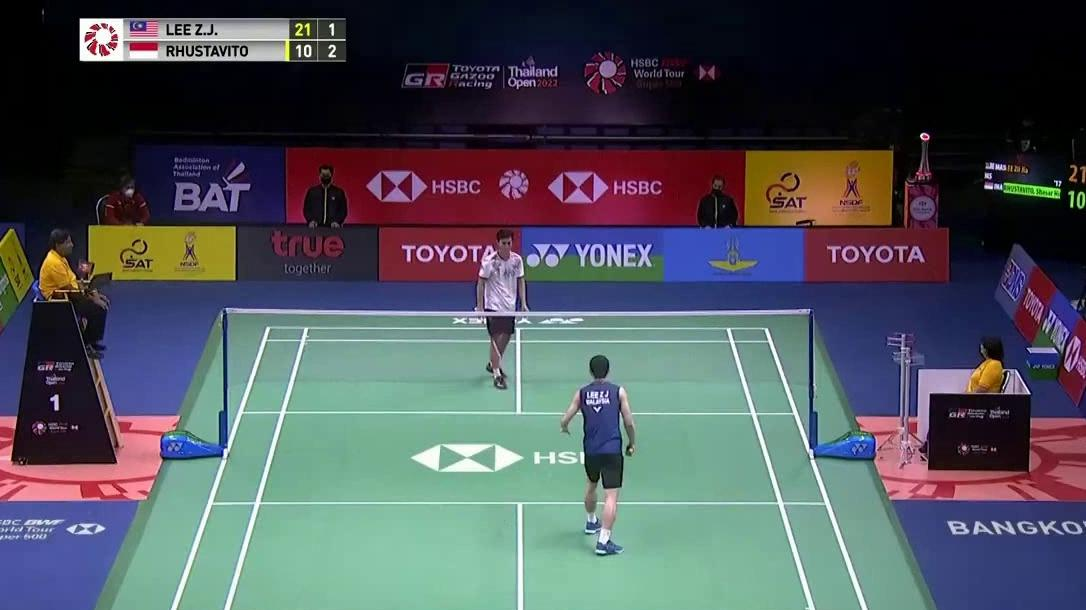racket: (474, 307, 502, 359)
